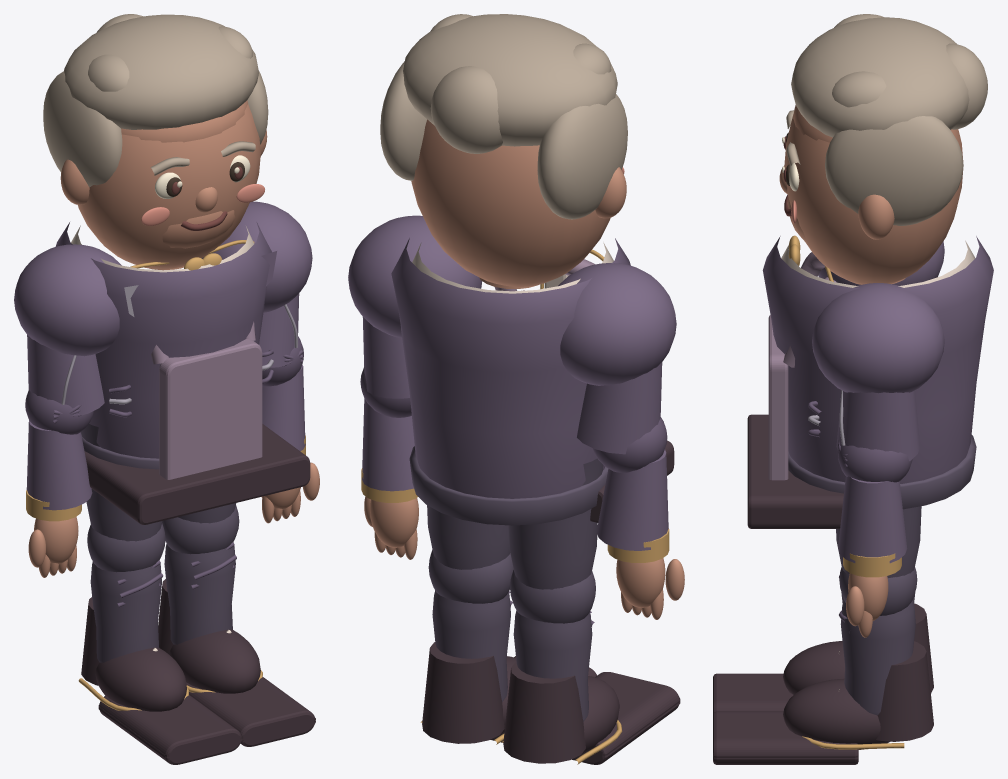
File: nana-rose.glb
3 views of the same model, side by side, from view 1: azimuth 30°, elevation 25°; view 2: azimuth 150°, elevation 25°; view 3: azimuth 270°, elevation 25° (orthographic). The views are drawn at different scales.
Parts seen in each view (by area): view 1: Tailored coat, Hair cap, Face, Apron panel, Tool belt, Shoulder -1, Sole -1, Trousers calf 1, Trousers calf -1, Side hair -1, Shoulder 1, Sole 1 (+25 smaller); view 2: Tailored coat, Face, Hair cap, Shoulder -1, Side hair -1, Shoulder 1, Boot shaft -1, Boot shaft 1, Trousers thigh -1, Trouser waistband, Sleeve forearm -1, Sleeve upper -1 (+21 smaller); view 3: Tailored coat, Hair cap, Shoulder 1, Side hair 1, Face, Tool belt, Sole 1, Trousers calf 1, Sleeve forearm 1, Leather toe 1, Sleeve upper 1, Boot shaft 1 (+18 smaller).
Boxes of the visible parts, x1=… form: Tailored coat: x1=55, y1=222, x2=271, y2=458; Hair cap: x1=63, y1=14, x2=258, y2=129; Face: x1=78, y1=104, x2=260, y2=269; Apron panel: x1=159, y1=339, x2=262, y2=479; Tool belt: x1=84, y1=424, x2=310, y2=524; Shoulder -1: x1=14, y1=244, x2=121, y2=356; Sole -1: x1=98, y1=695, x2=241, y2=764; Trousers calf 1: x1=164, y1=542, x2=235, y2=644; Trousers calf -1: x1=90, y1=561, x2=161, y2=662; Side hair -1: x1=43, y1=71, x2=122, y2=187; Shoulder 1: x1=202, y1=201, x2=312, y2=312; Sole 1: x1=186, y1=677, x2=315, y2=746; Tailored coat: x1=391, y1=238, x2=630, y2=498; Face: x1=411, y1=119, x2=610, y2=286; Hair cap: x1=403, y1=14, x2=617, y2=146; Shoulder -1: x1=558, y1=263, x2=676, y2=385; Side hair -1: x1=537, y1=94, x2=627, y2=219; Shoulder 1: x1=348, y1=215, x2=482, y2=337; Boot shaft -1: x1=503, y1=662, x2=585, y2=763; Boot shaft 1: x1=422, y1=642, x2=504, y2=743; Trousers thigh -1: x1=508, y1=458, x2=603, y2=589; Trouser waistband: x1=409, y1=446, x2=608, y2=525; Sleeve forearm -1: x1=596, y1=449, x2=668, y2=550; Sleeve upper -1: x1=577, y1=362, x2=662, y2=454; Tailored coat: x1=762, y1=236, x2=993, y2=483; Hair cap: x1=791, y1=17, x2=969, y2=137; Shoulder 1: x1=812, y1=283, x2=944, y2=393; Side hair 1: x1=825, y1=116, x2=963, y2=225; Face: x1=784, y1=113, x2=963, y2=284; Tool belt: x1=747, y1=414, x2=843, y2=528; Sole 1: x1=713, y1=711, x2=858, y2=764; Trousers calf 1: x1=840, y1=600, x2=915, y2=715; Sleeve forearm 1: x1=838, y1=476, x2=907, y2=563; Leather toe 1: x1=783, y1=678, x2=889, y2=749; Sleeve upper 1: x1=836, y1=390, x2=920, y2=461; Boot shaft 1: x1=876, y1=641, x2=933, y2=741.
Bounding box in the file's own units: 1.14 × 2.5 × 0.9137.
